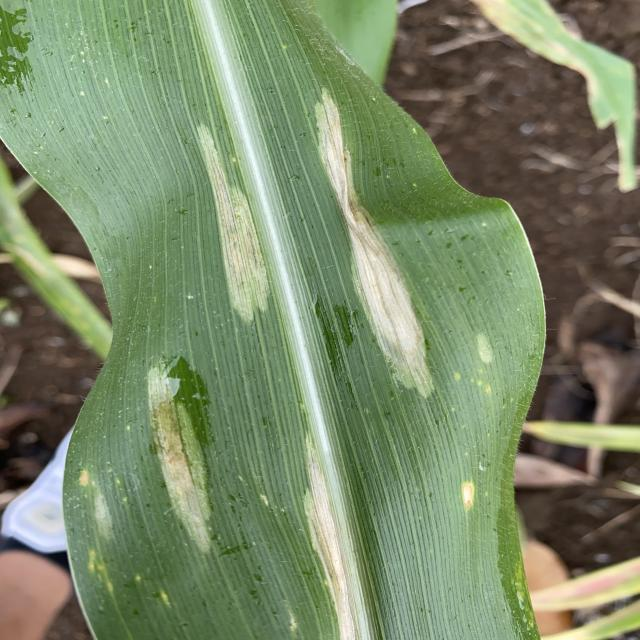Corn_Leaf_Blight: (60, 0, 558, 640)
